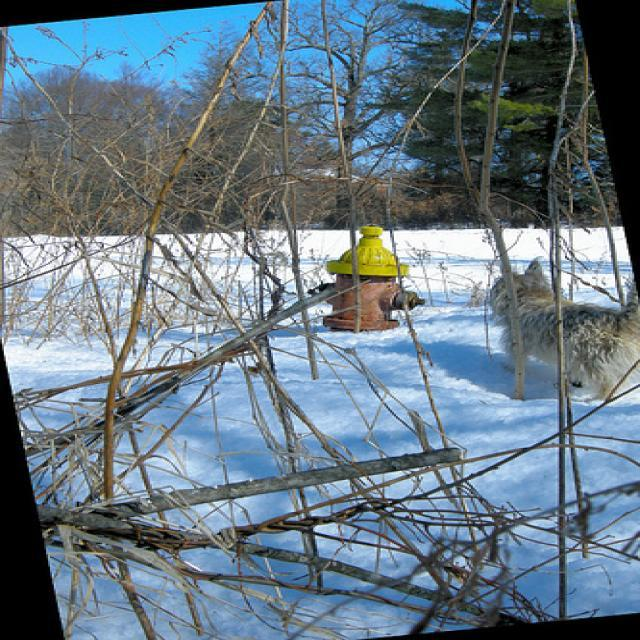fire_hydrant: (320, 222, 424, 332)
